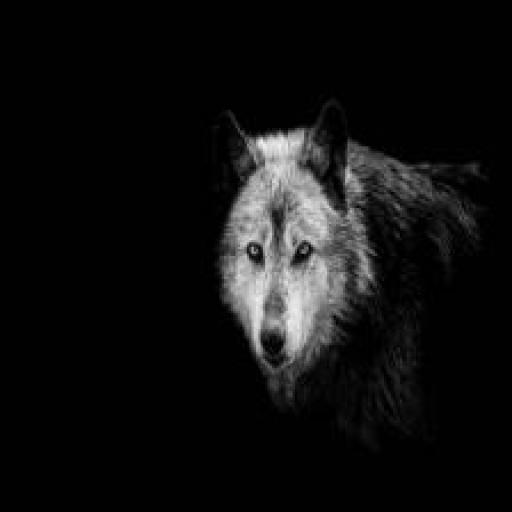wolf: (212, 98, 511, 471)
